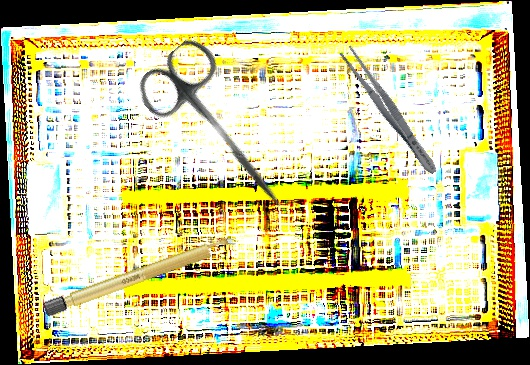Dressing Forceps: (337, 43, 442, 179)
Iris Scissors: (129, 32, 316, 231)
Scalpel Handle: (41, 232, 241, 318)
